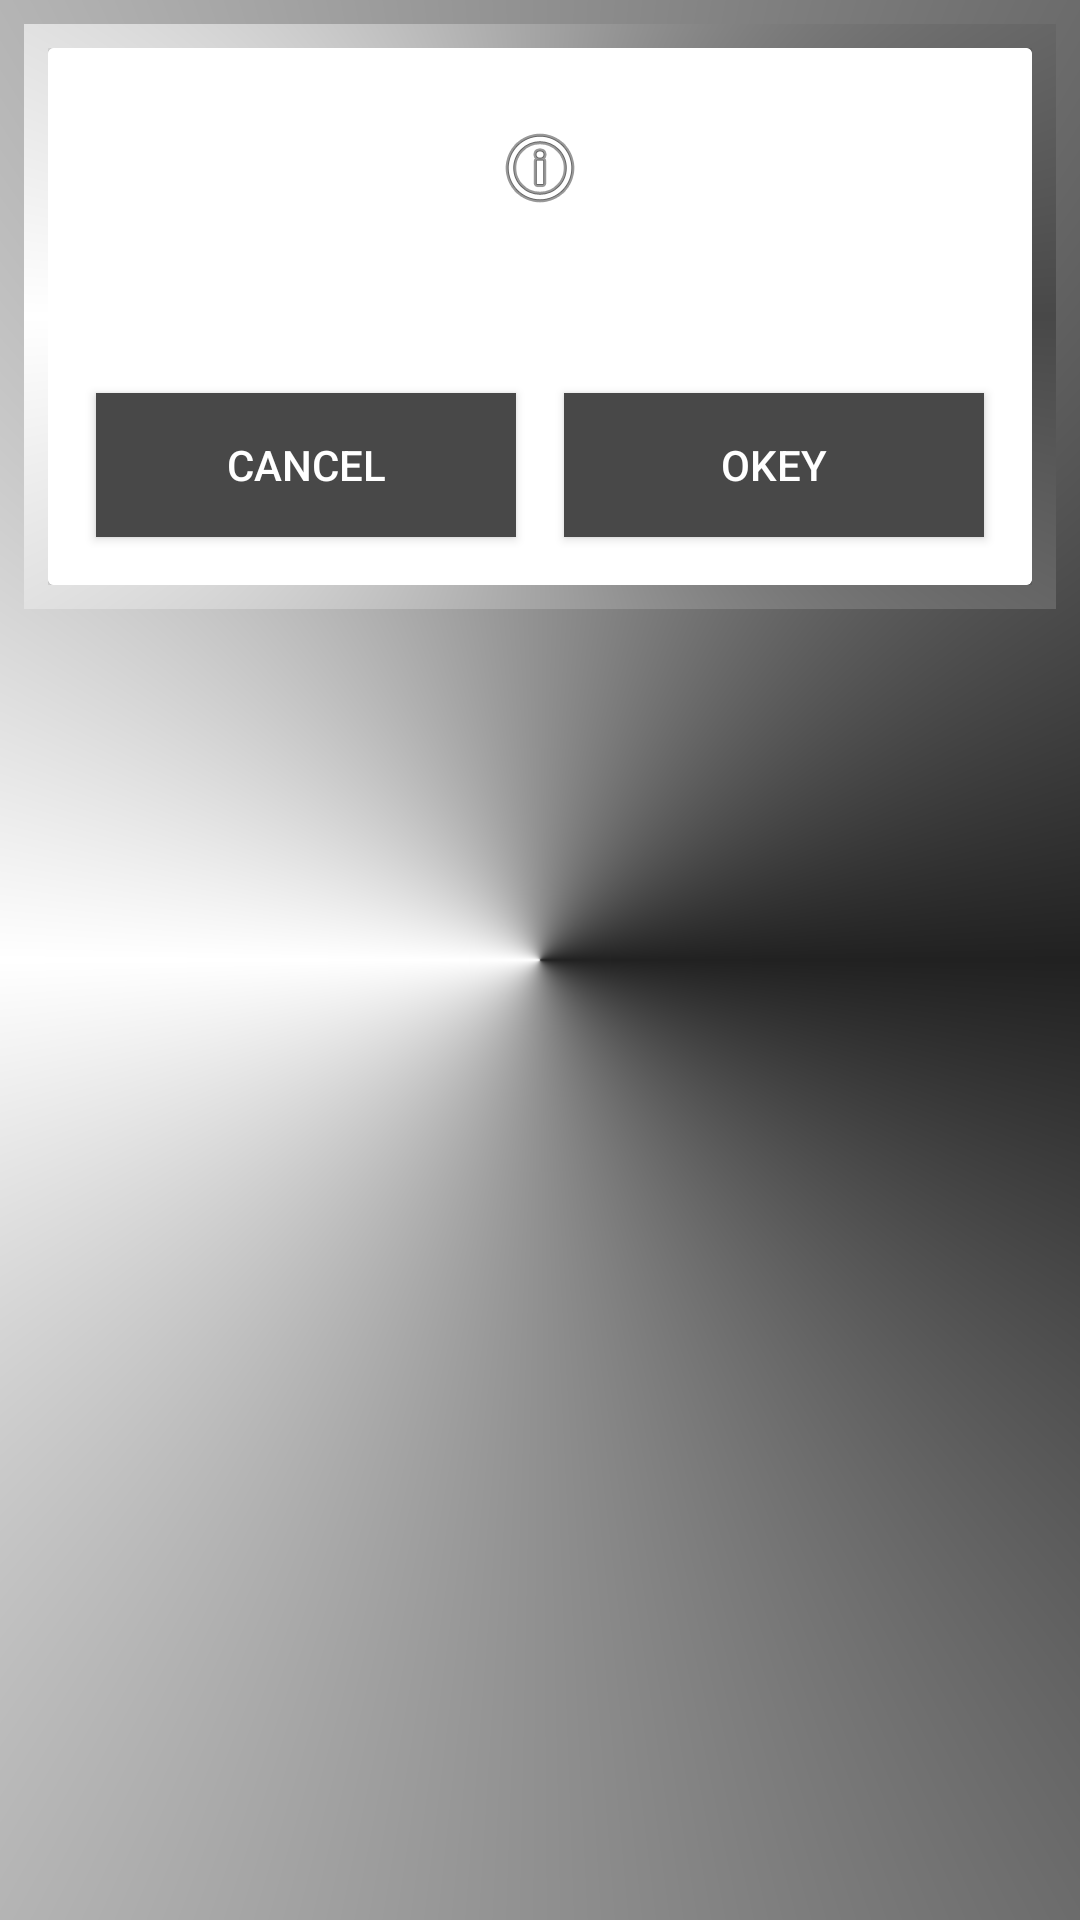

Locate icon controls on the screen. Image size 1080×1920, boxes as (x1, y1, x2, y2).
info details: (505, 133, 575, 203)
